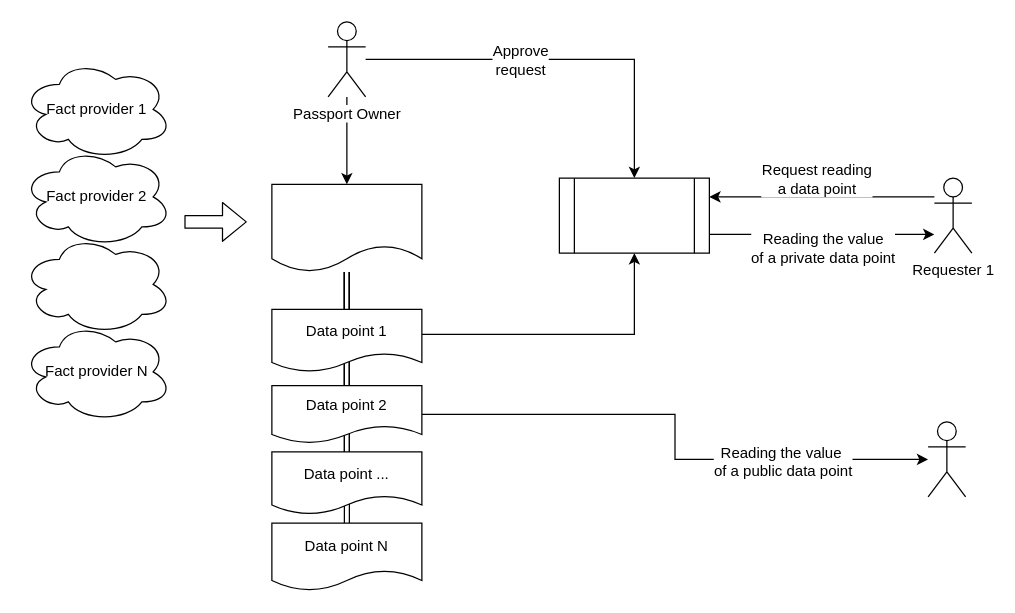
Image size: 1015x613. Some labels were removed from this diagram. Each missing label, with the centre of its shape:
"Fact provider.." goes at point (96, 283).
"Passport" goes at point (346, 227).
"Private data request approval" goes at point (633, 215).
"Requester 2" goes at point (946, 459).
